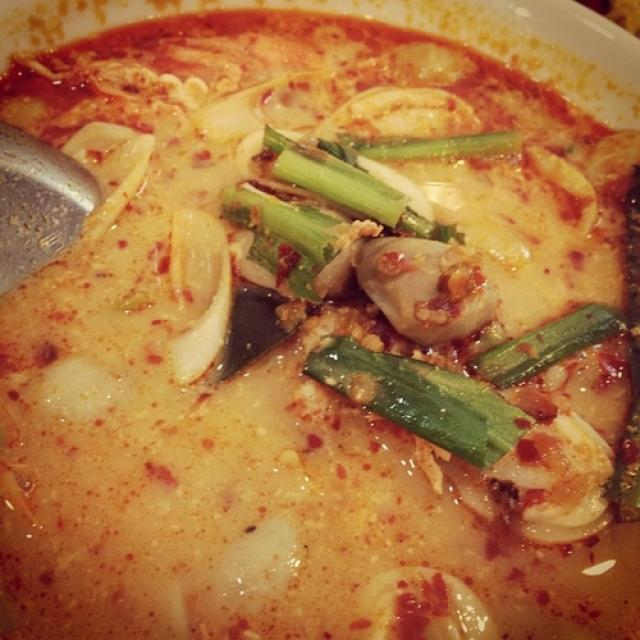汤锅炖物: (23, 16, 621, 624)
